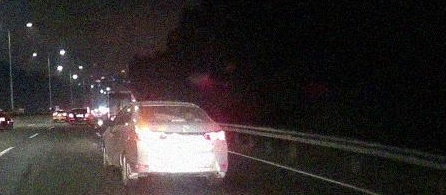L_light: (136, 131, 160, 140)
R_light: (204, 131, 225, 140)
T_light: (170, 118, 185, 122)
night-no: (134, 101, 228, 187)
